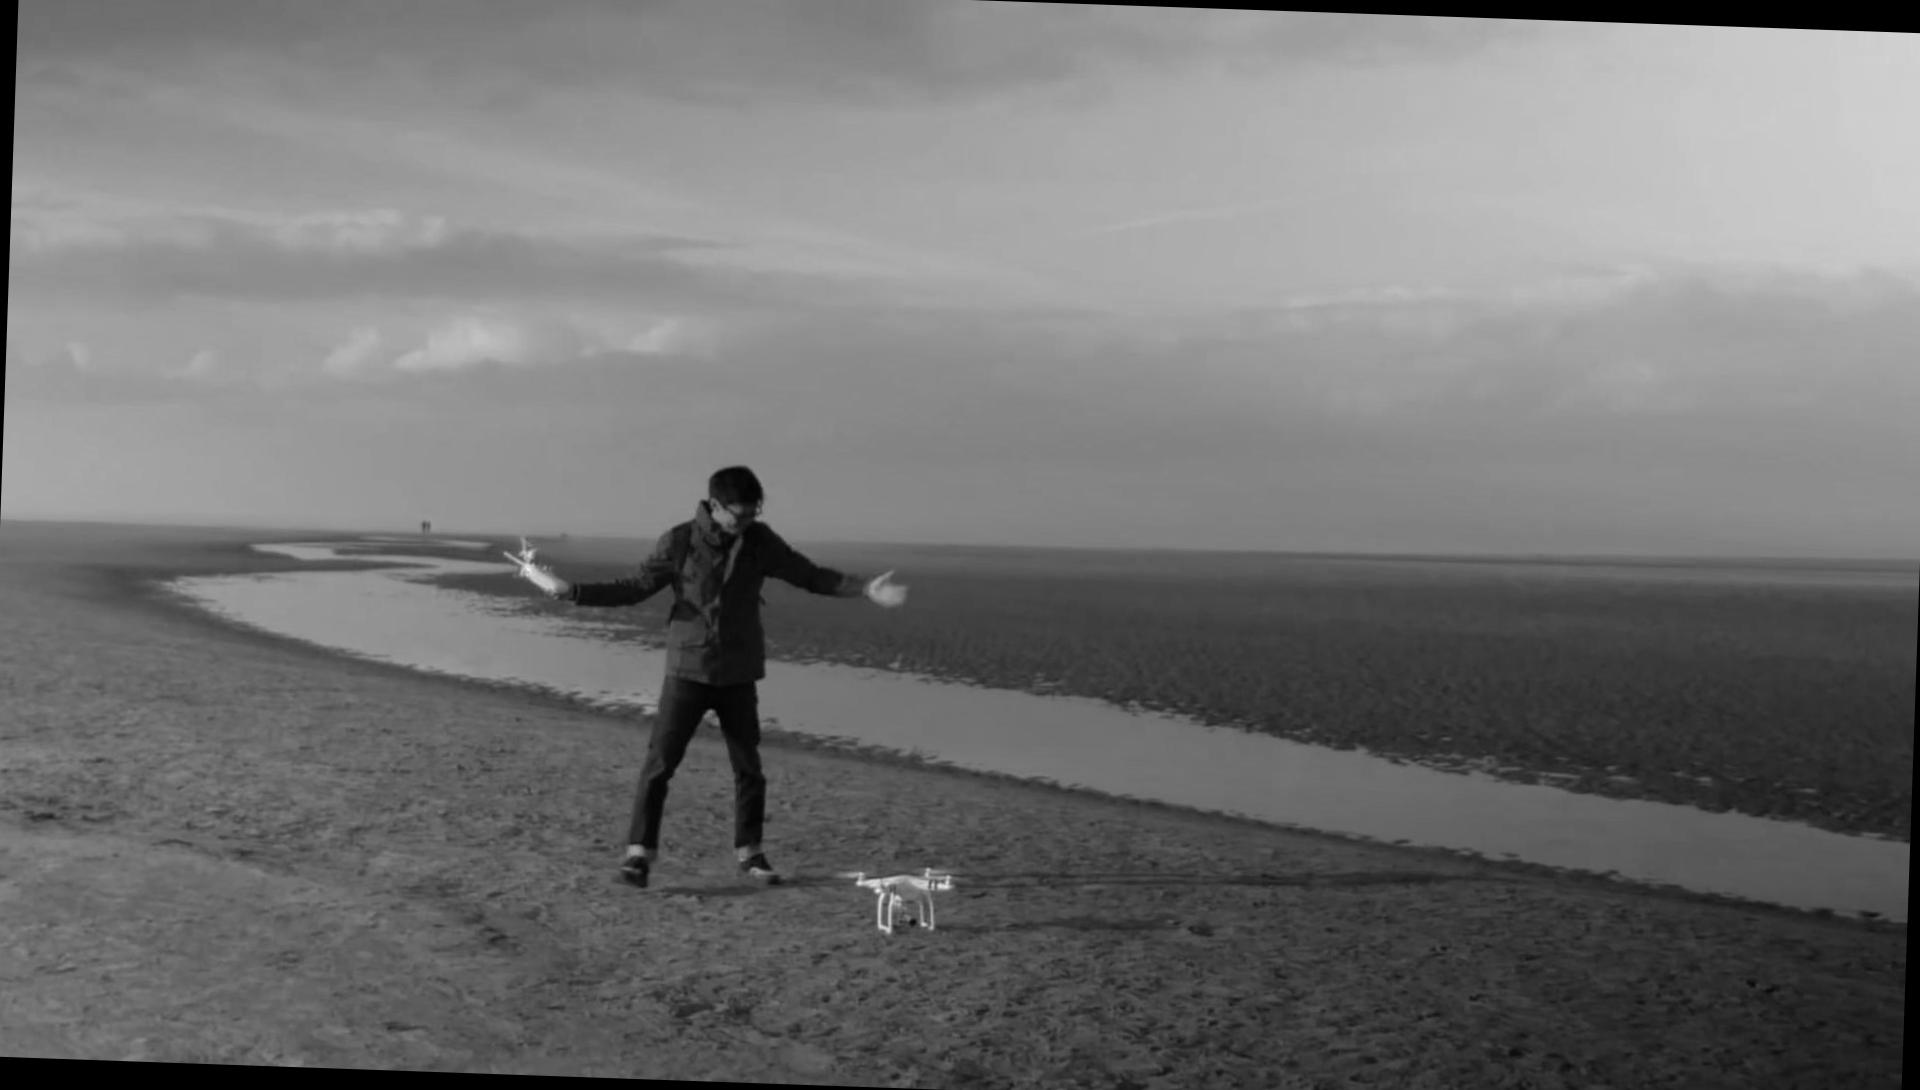drone: (828, 851, 967, 933)
